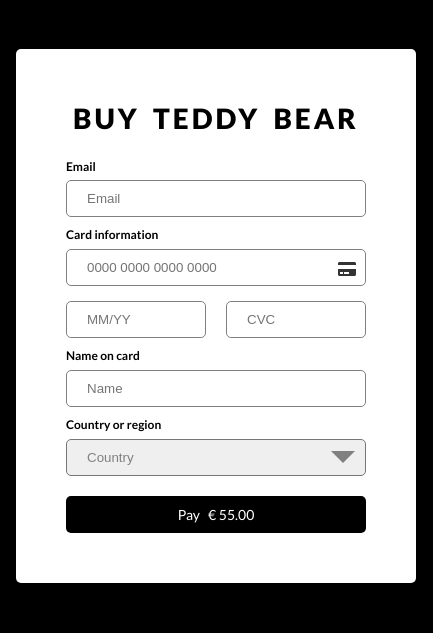
Test: <PurchaseForm /> › should not throw an error if all fields are correctly entered, and form is submitted
In the field with placeholder "Email": coordinates (216, 199) [66,180,366,217], type "email@test.com"
In the field with placeholder "0000 0000 0000 0000": coordinates (216, 268) [66,249,366,286], type "1111111111111111"
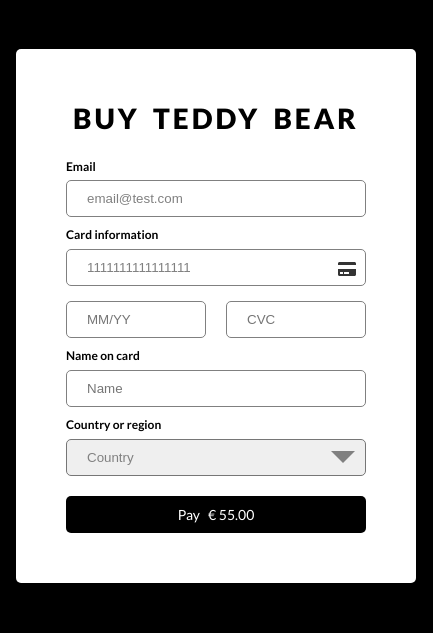
In the field with placeholder "MM/YY": coordinates (136, 320) [66,301,206,338], type "05/94"
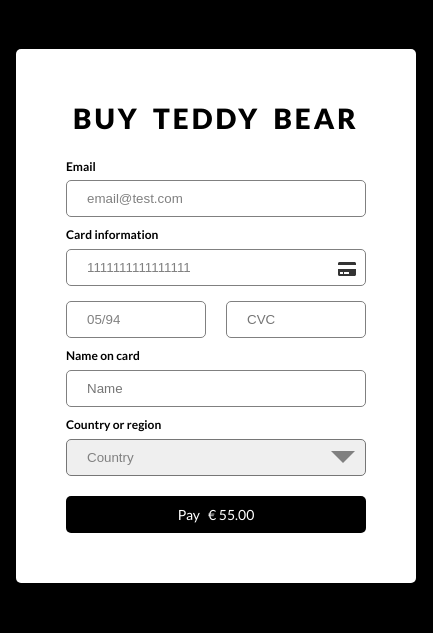
In the field with placeholder "CVC": coordinates (296, 320) [226,301,366,338], type "123"
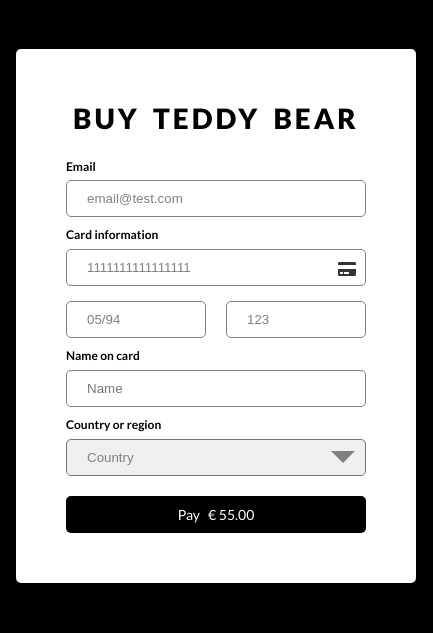
In the field with placeholder "Name": coordinates (216, 388) [66,370,366,407], type "Edgars"
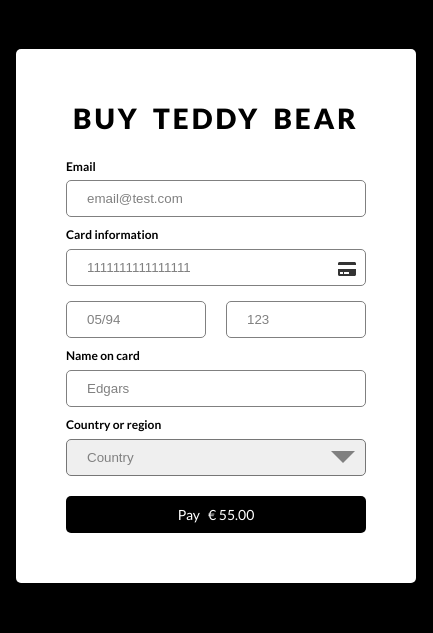
Select "Latvia" in the dropdown with test id "Country or region": coordinates (216, 457) [66,439,366,476]
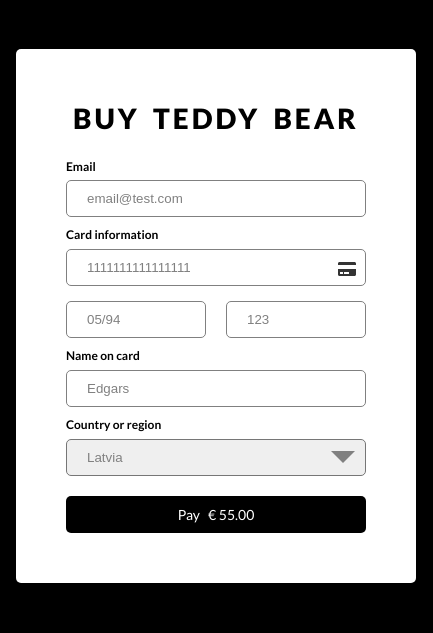
Click the button "Pay € 55.00": coordinates (216, 514) [66,496,366,533]
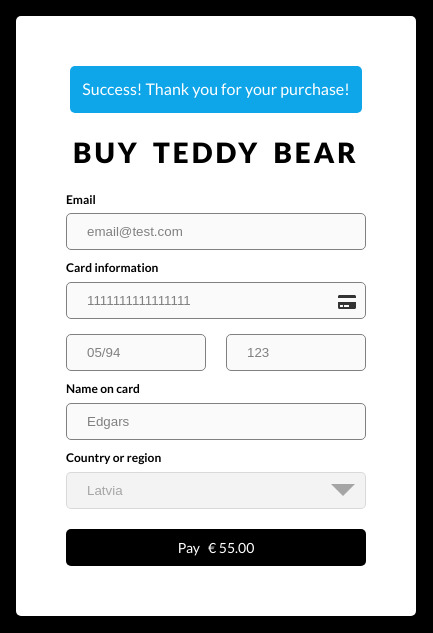
Result: the text "Success! Thank you for your purchase!" is shown at [70,66,362,112]
